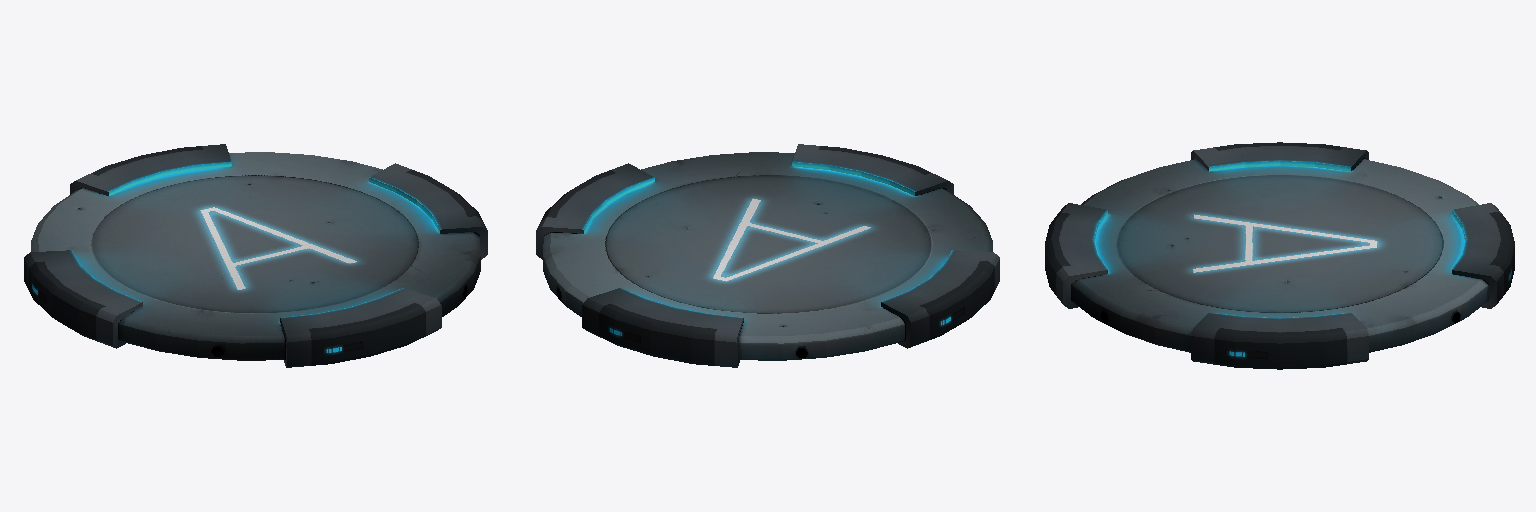
3 views of the same model, side by side, from view 1: azimuth 30°, elevation 25°; view 2: azimuth 150°, elevation 25°; view 3: azimuth 270°, elevation 25° (orthographic).
Parts seen in each view (by area): view 1: platform; view 2: platform; view 3: platform.
Boxes of the visible parts, x1=… form: platform: x1=24, y1=144, x2=487, y2=367; platform: x1=536, y1=144, x2=999, y2=367; platform: x1=1045, y1=142, x2=1514, y2=369.
Bounding box in the file's own units: 2.08 × 0.1661 × 2.08.
Materials: 1 (1 with a texture image).